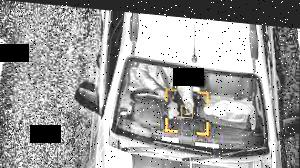seatbelt: (156, 62, 171, 92)
